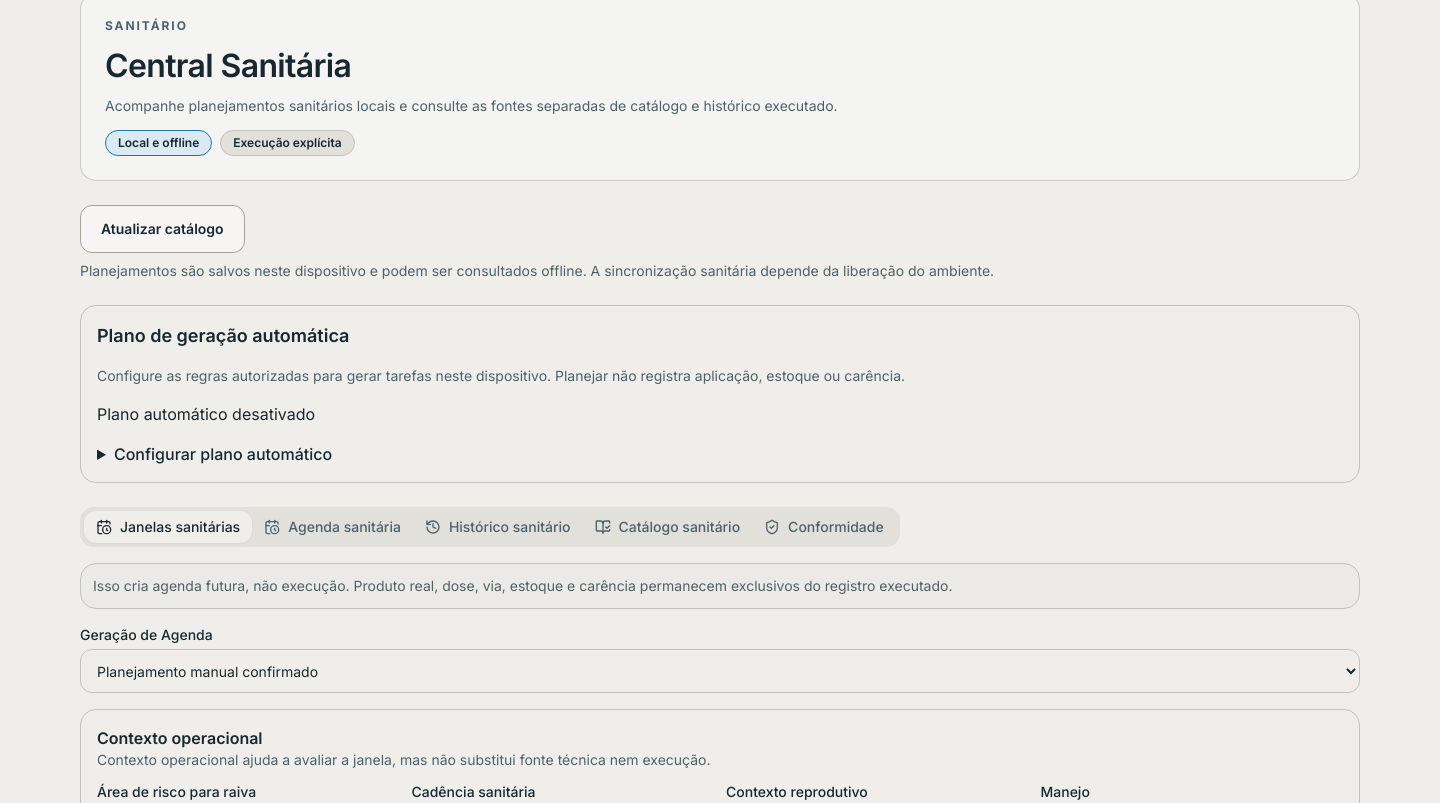
it: Central Sanitária › mostra pendencias documentais na visão de histórico
Click the tab "Histórico sanitário" at (498, 527), box [413,511,582,543]
(page scrolled)
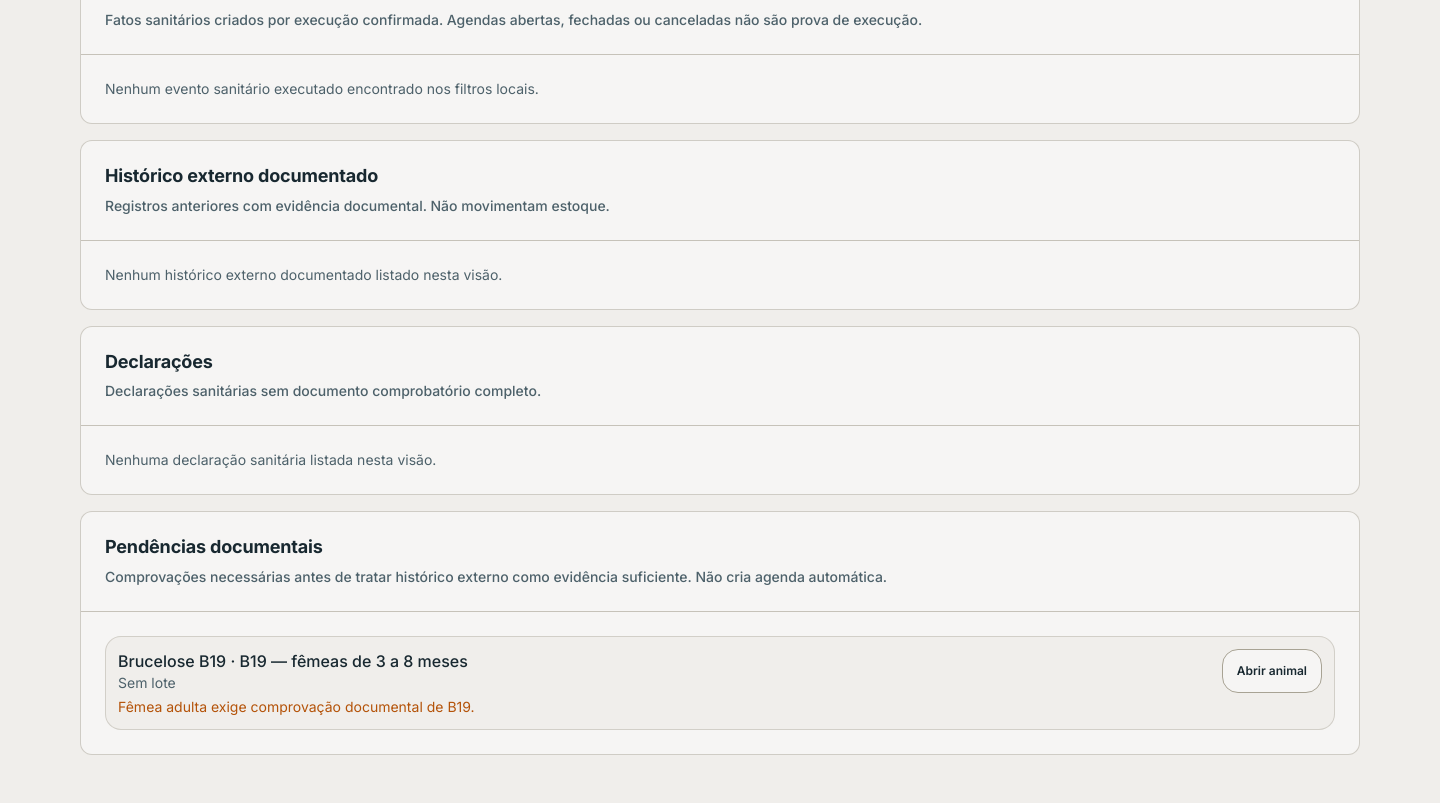
Result: the heading "Pendências documentais" is shown at [105,536,323,557]
Result: the text "Fêmea adulta exige comprovação documental de B19." is shown at [118,696,475,716]
